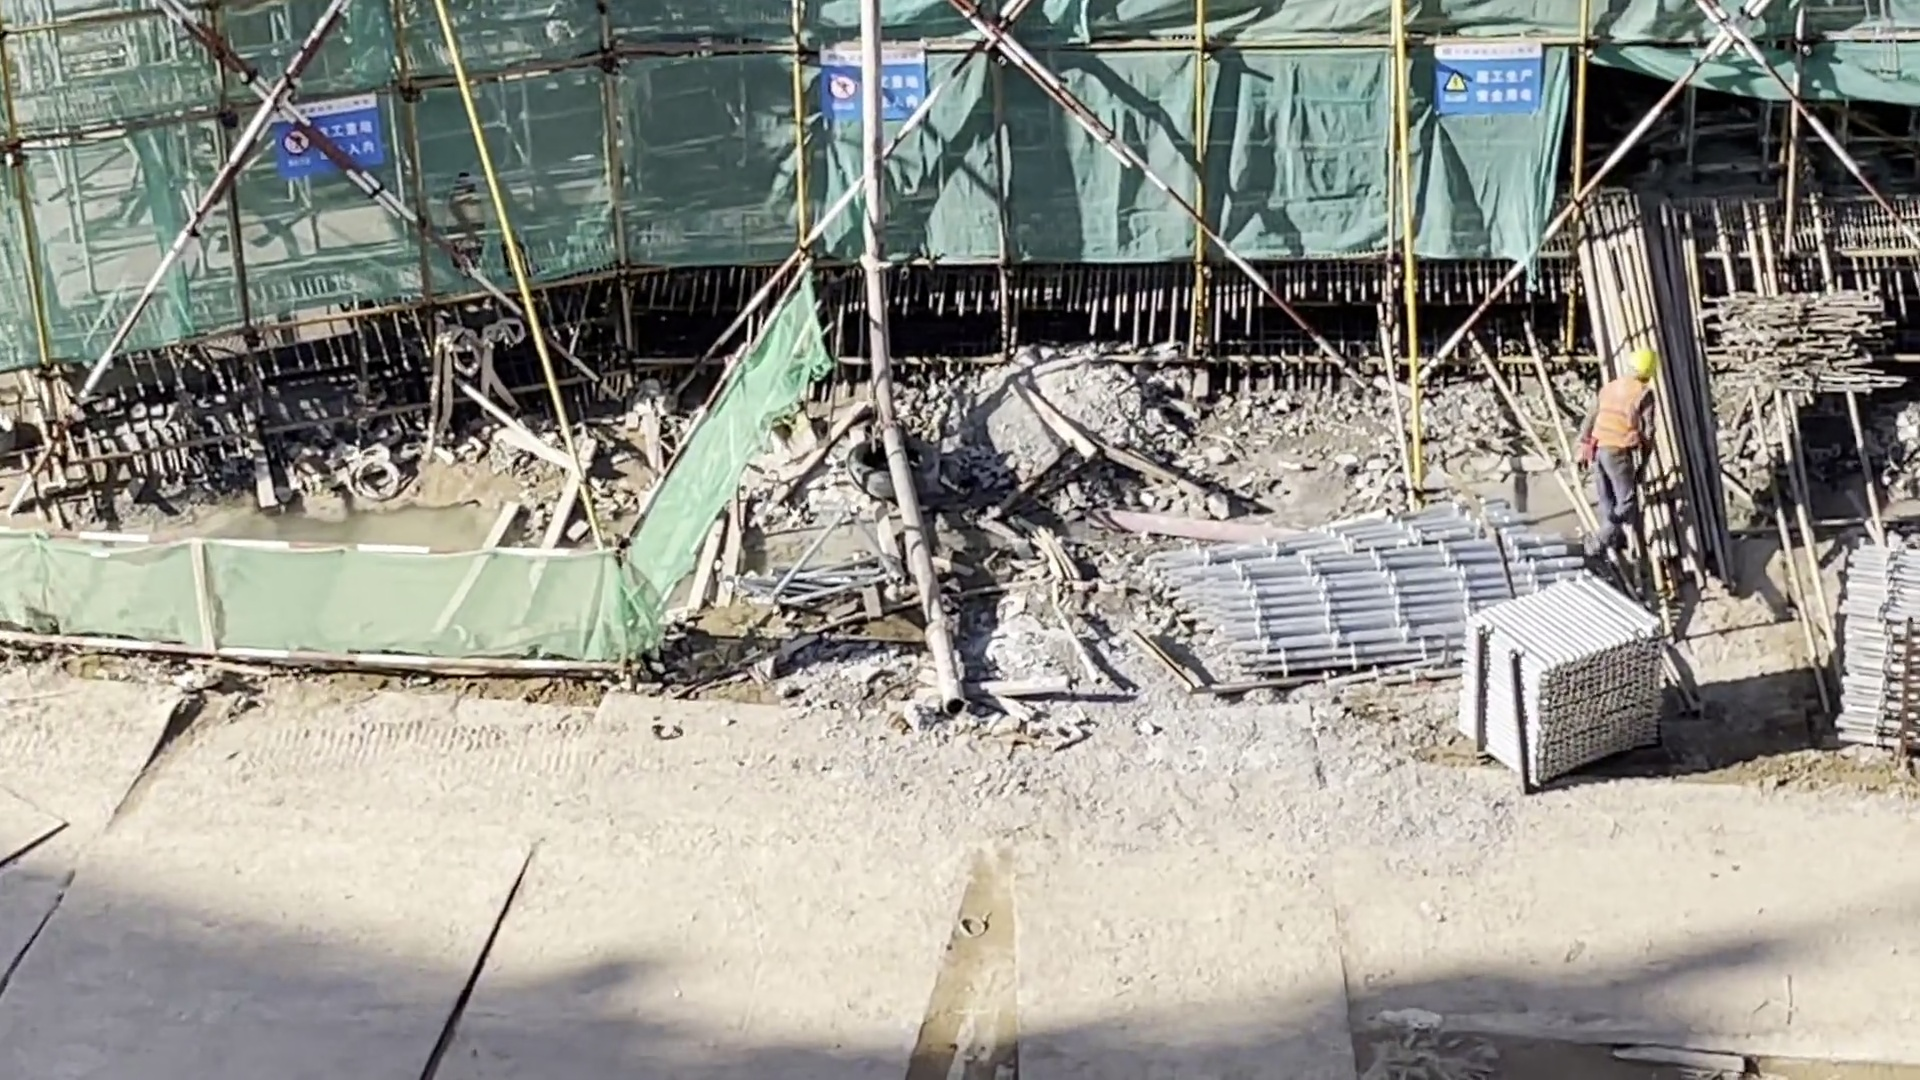helmet: (1631, 342, 1653, 379)
person: (1588, 345, 1664, 560)
scaffold: (1158, 506, 1578, 671), (1467, 575, 1664, 774), (1836, 538, 1920, 761)
slogan: (272, 91, 385, 183), (815, 47, 928, 124), (1432, 43, 1538, 116)
vest: (1595, 379, 1653, 452)
